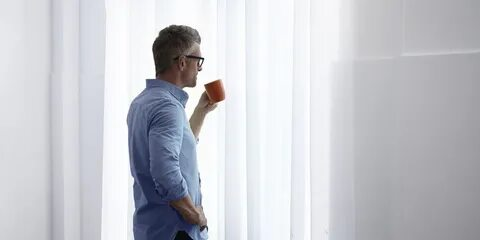awake: (126, 24, 219, 239)
